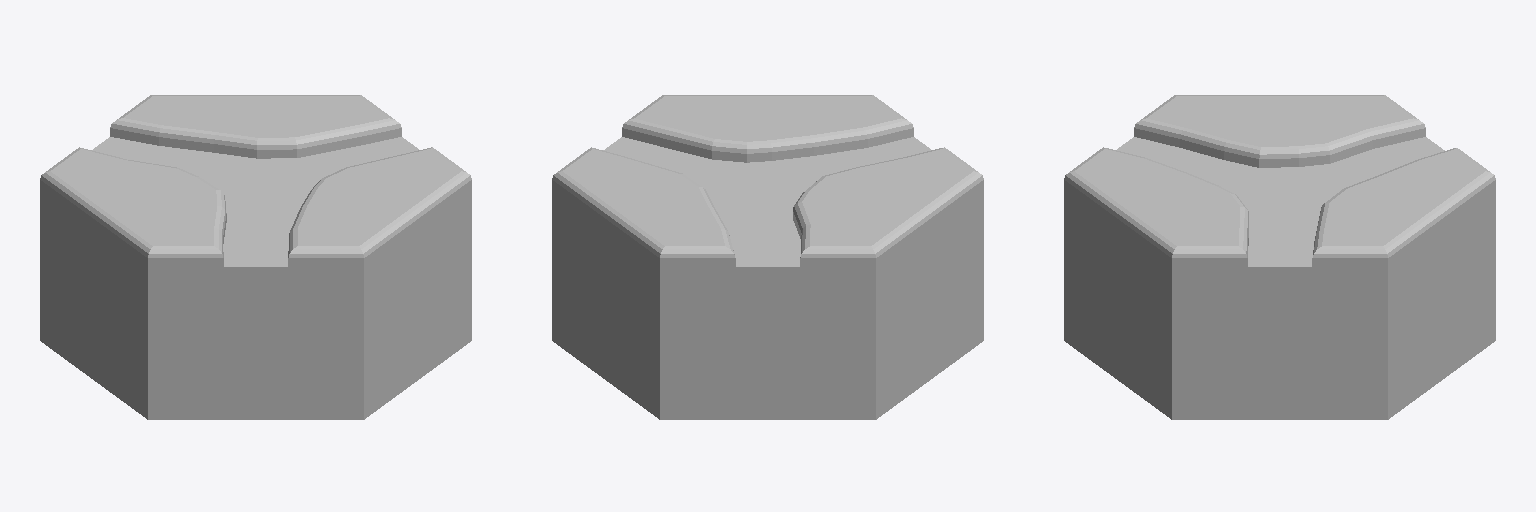
File: hex_forest_roadG.obj
3 renders of one model, left to right at view 1: azimuth 30°, elevation 25°; view 2: azimuth 150°, elevation 25°; view 3: azimuth 270°, elevation 25°, orthographic.
Visible parts, largest first — view 1: hex_forest_roadG_Cylinder.488; view 2: hex_forest_roadG_Cylinder.488; view 3: hex_forest_roadG_Cylinder.488.
Boxes of the visible parts, x1=… form: hex_forest_roadG_Cylinder.488: x1=40, y1=95, x2=471, y2=419; hex_forest_roadG_Cylinder.488: x1=552, y1=95, x2=983, y2=419; hex_forest_roadG_Cylinder.488: x1=1064, y1=95, x2=1495, y2=419.
Bounding box in the file's own units: 2 × 1 × 2.31.